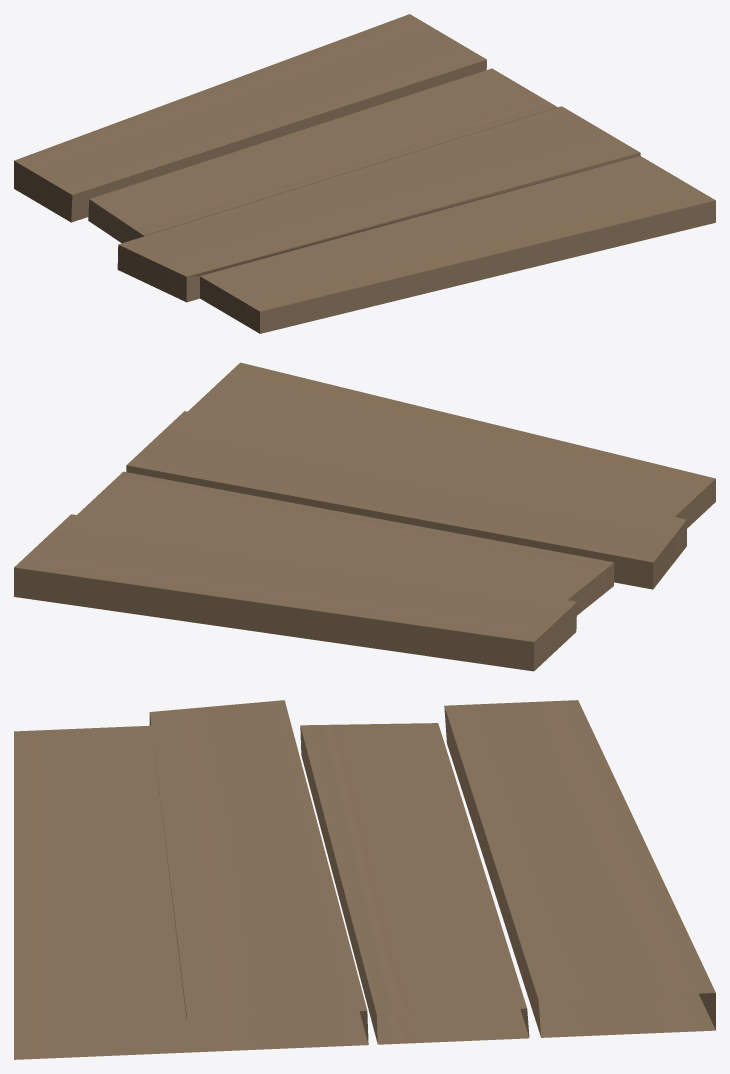
File: SM_I_PlatformWooden2.FBX
The picture shows the model from 3 angles, top to bottom: view 1: azimuth 30°, elevation 25°; view 2: azimuth 150°, elevation 25°; view 3: azimuth 270°, elevation 25°; orthographic projection. The views are drawn at different scales.
Parts seen in each view (by area): view 1: Object001; view 2: Object001; view 3: Object001.
Part boxes in pixels (box(x1,y1,x2,y2)): Object001: box(14, 14, 715, 333); Object001: box(14, 362, 715, 671); Object001: box(14, 700, 715, 1059).
Size of the model in its own units: 69.94 by 3.79 by 63.76.
